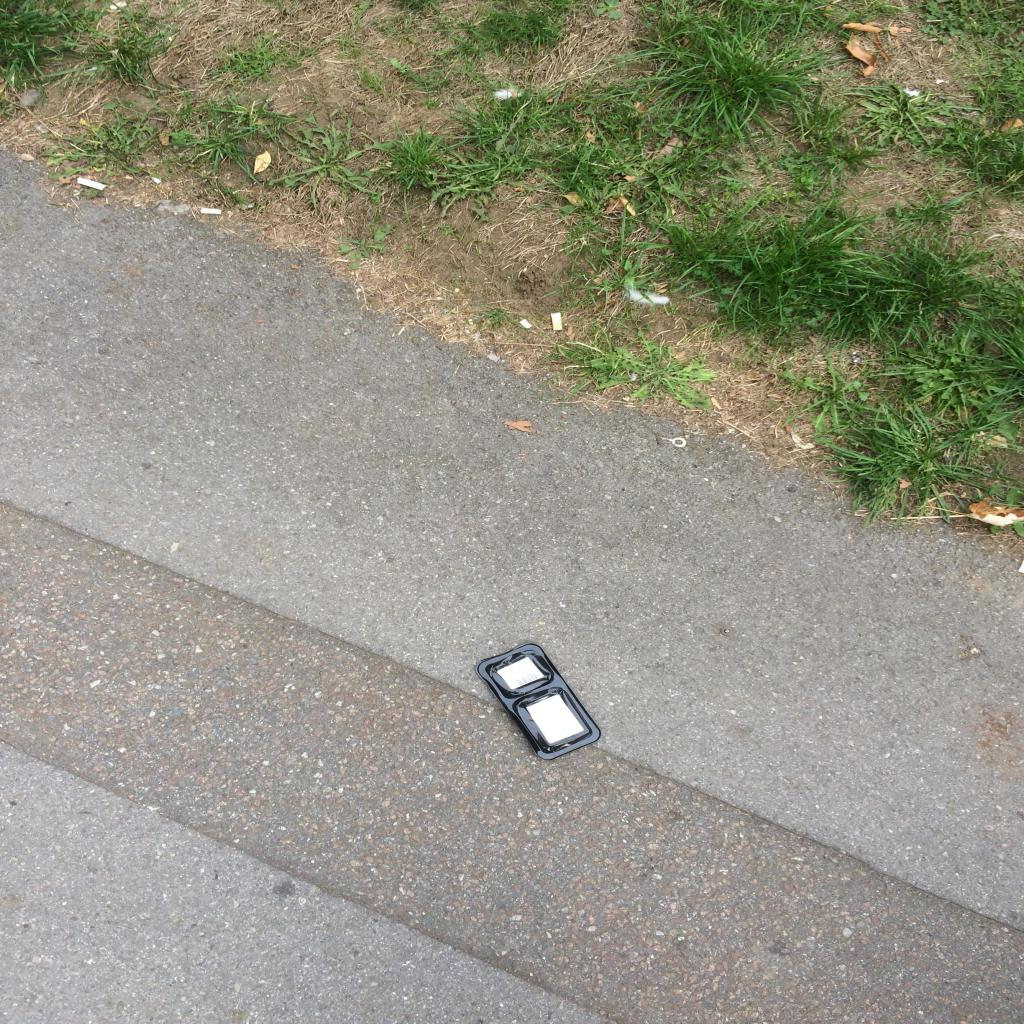Cigarette: (77, 178, 105, 190), (552, 313, 562, 331), (202, 208, 222, 214)
